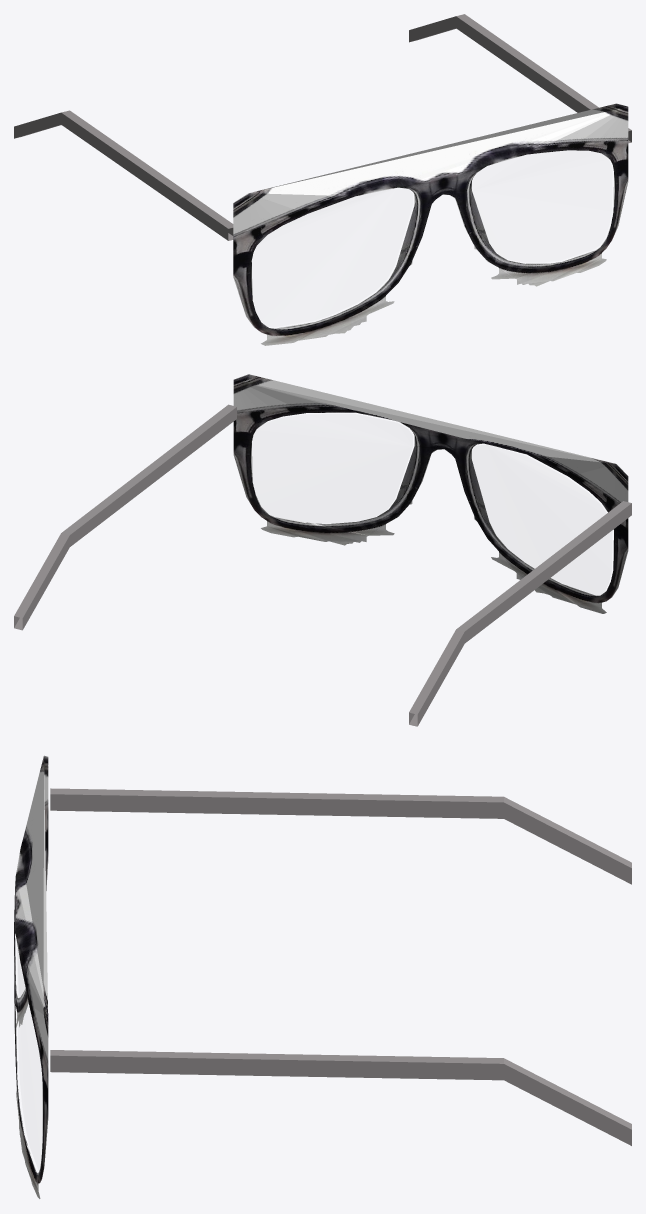
The model's file is gothamstyle-250_grey-tortoise.glb.
3 renders of one model, top to bottom at view 1: azimuth 30°, elevation 25°; view 2: azimuth 150°, elevation 25°; view 3: azimuth 270°, elevation 25°, orthographic. The views are drawn at different scales.
Parts seen in each view (by area): view 1: frame_front, temple_viewer_left, temple_viewer_right; view 2: frame_front, temple_viewer_left, temple_viewer_right; view 3: temple_viewer_left, temple_viewer_right, frame_front.
Boxes of the visible parts, x1,y1,x2,y2 form: frame_front: (233,103,628,345); temple_viewer_left: (14,110,233,240); temple_viewer_right: (409,14,631,143); frame_front: (233,374,628,613); temple_viewer_left: (409,501,631,726); temple_viewer_right: (14,404,236,630); temple_viewer_left: (50,788,631,884); temple_viewer_right: (50,1050,631,1145); frame_front: (14,755,48,1198).
Size of the model in its own units: 0.1391 by 0.0515 by 0.136.
3 materials, 2 textured.
